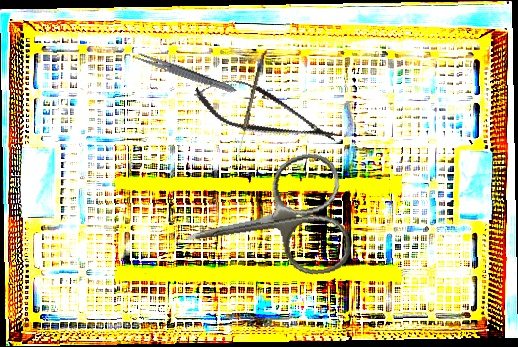Dressing Forceps: (130, 49, 239, 97)
Iris Scissors: (175, 149, 355, 297)
Micro Scissor: (188, 66, 344, 160)
Surgical Spoon: (236, 51, 265, 158)
